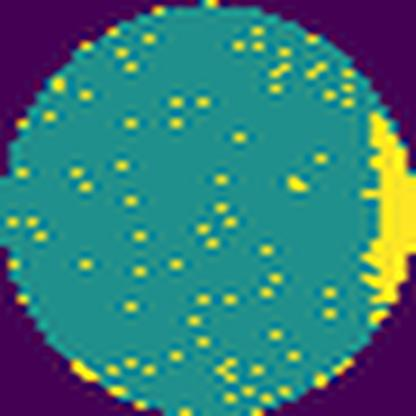Edge-Loc: (356, 100, 416, 330)
